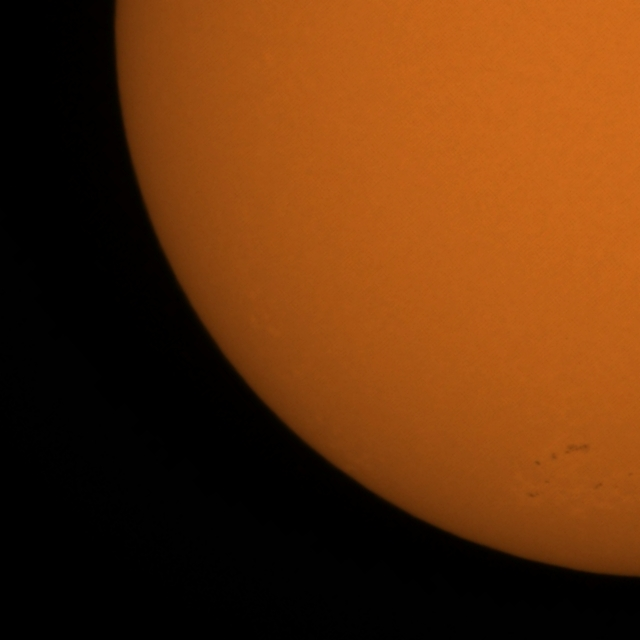sunspot: (556, 442, 589, 459), (526, 490, 540, 499), (550, 450, 559, 462), (593, 481, 603, 491), (534, 459, 542, 467), (544, 479, 550, 485)
